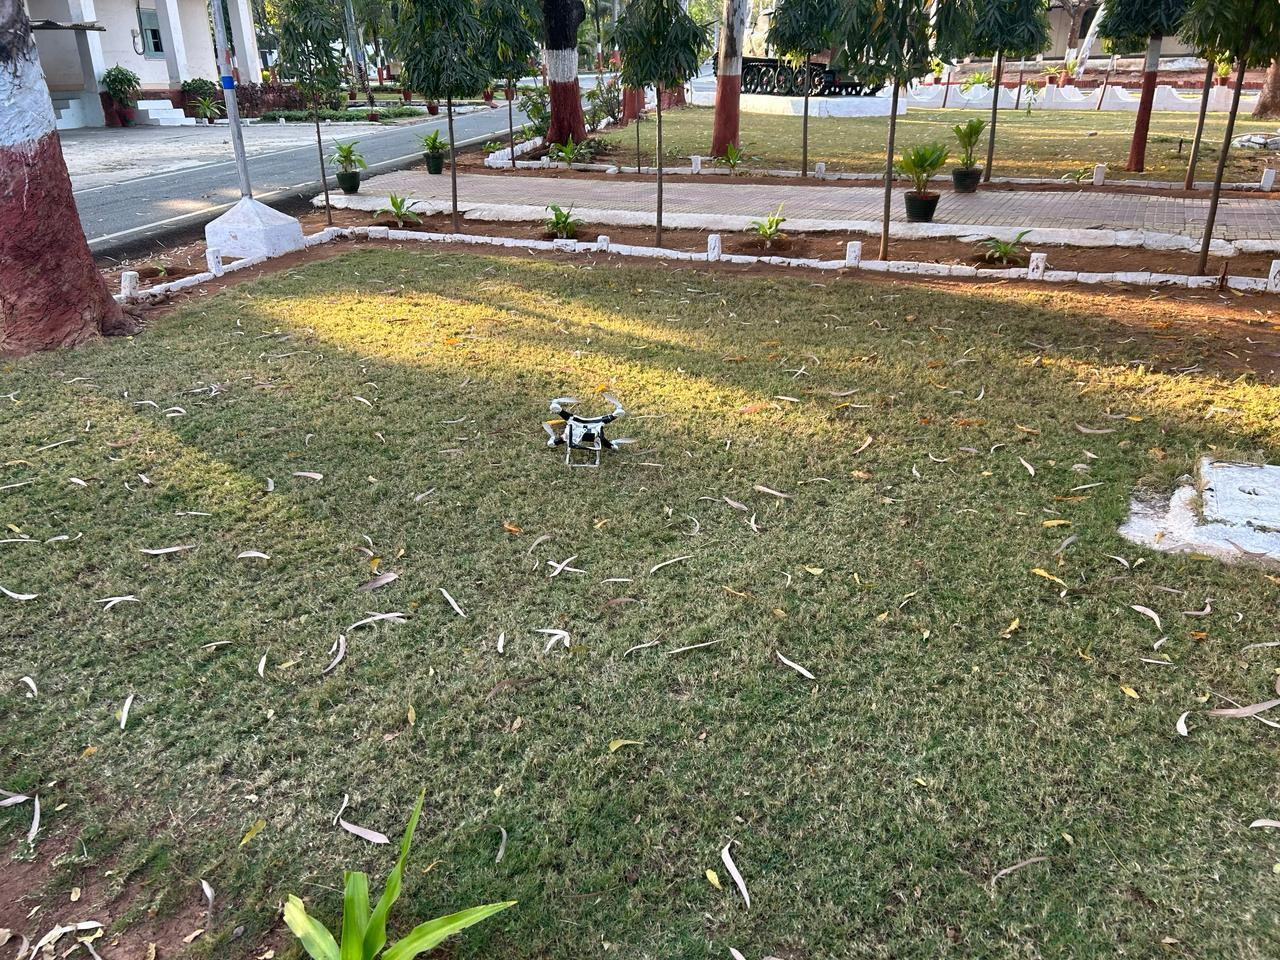drone: (533, 380, 646, 484)
